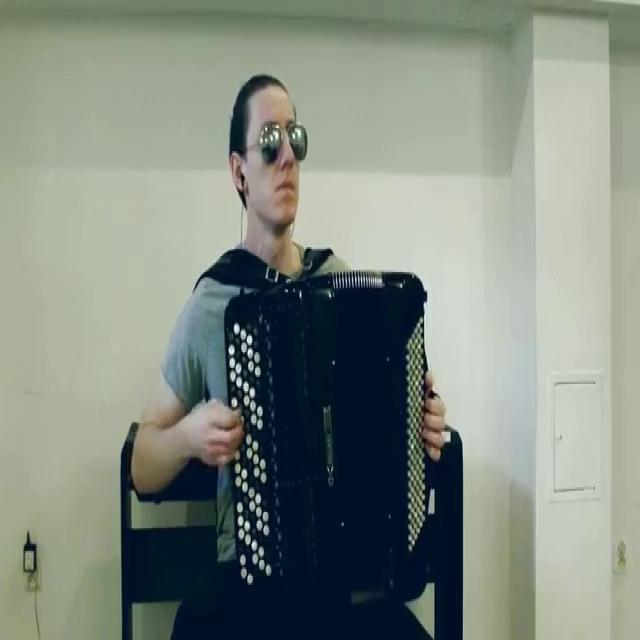Accordion: (224, 284, 436, 598)
